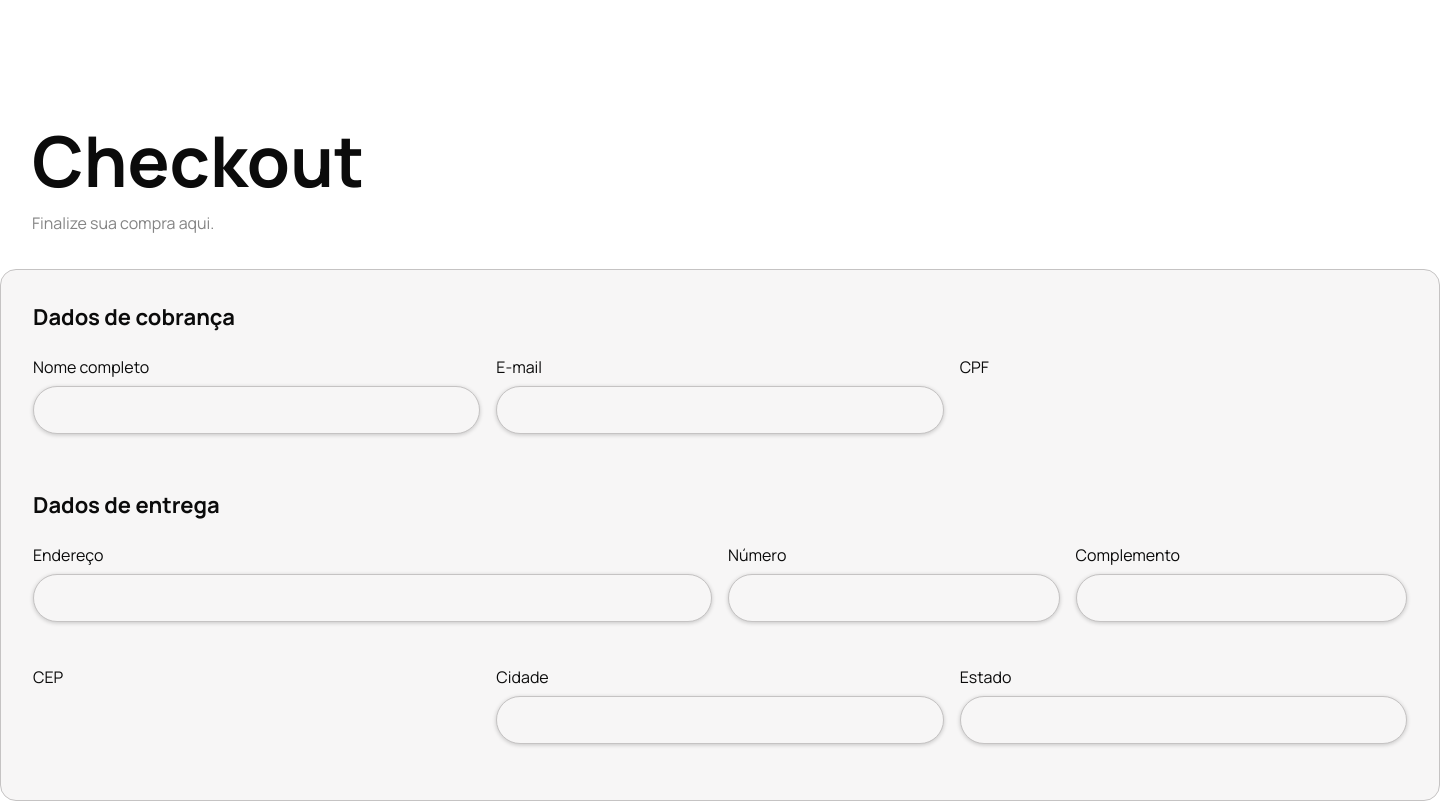
Scenario: Checkout › deve mostrar "Campo obrigatório" ao sair de um campo vazio
Note: Clica no campo
Click the field labelled "Nome completo" at {"x": 257, "y": 410}, box [33, 386, 480, 434]
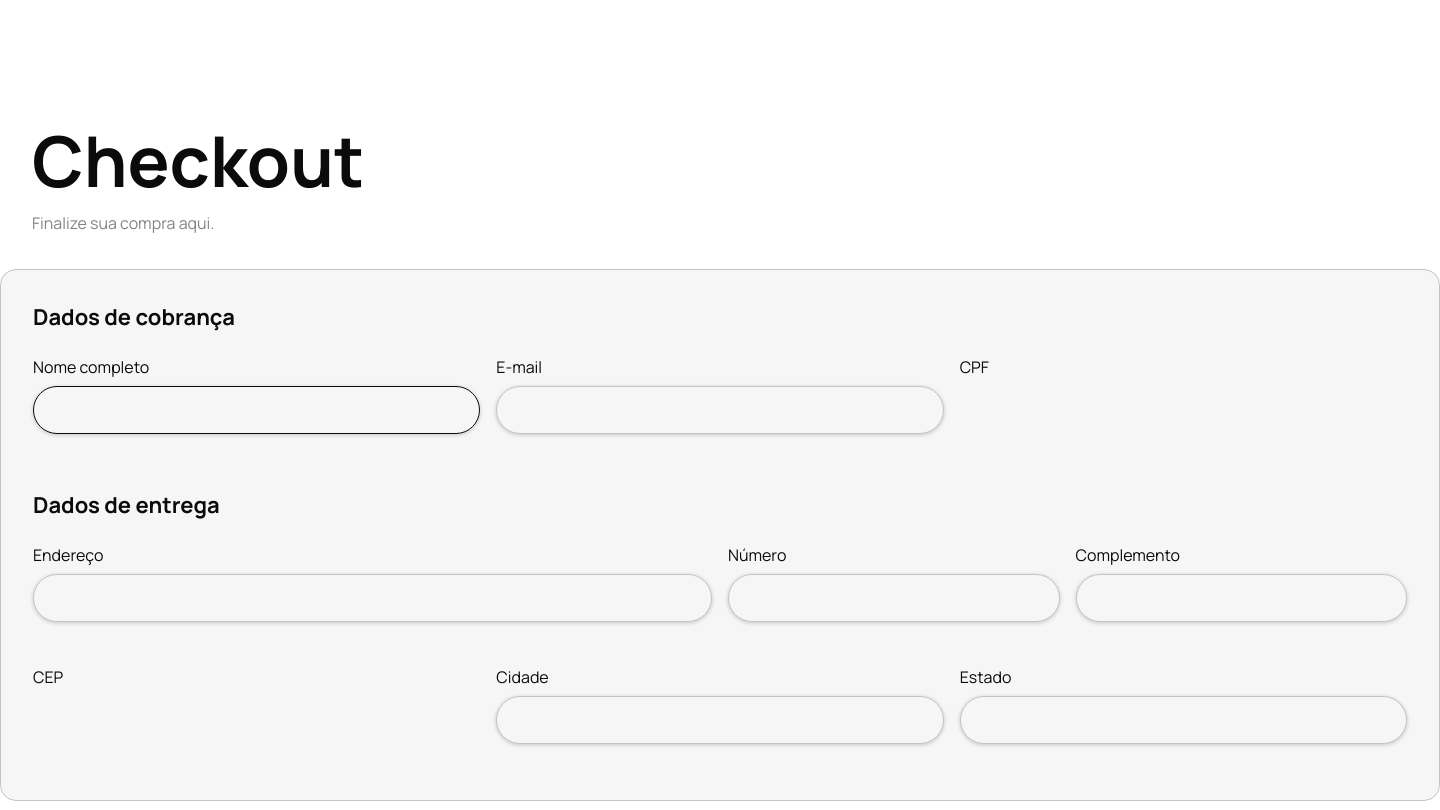
Note: Sai do campo sem preencher
Press Tab
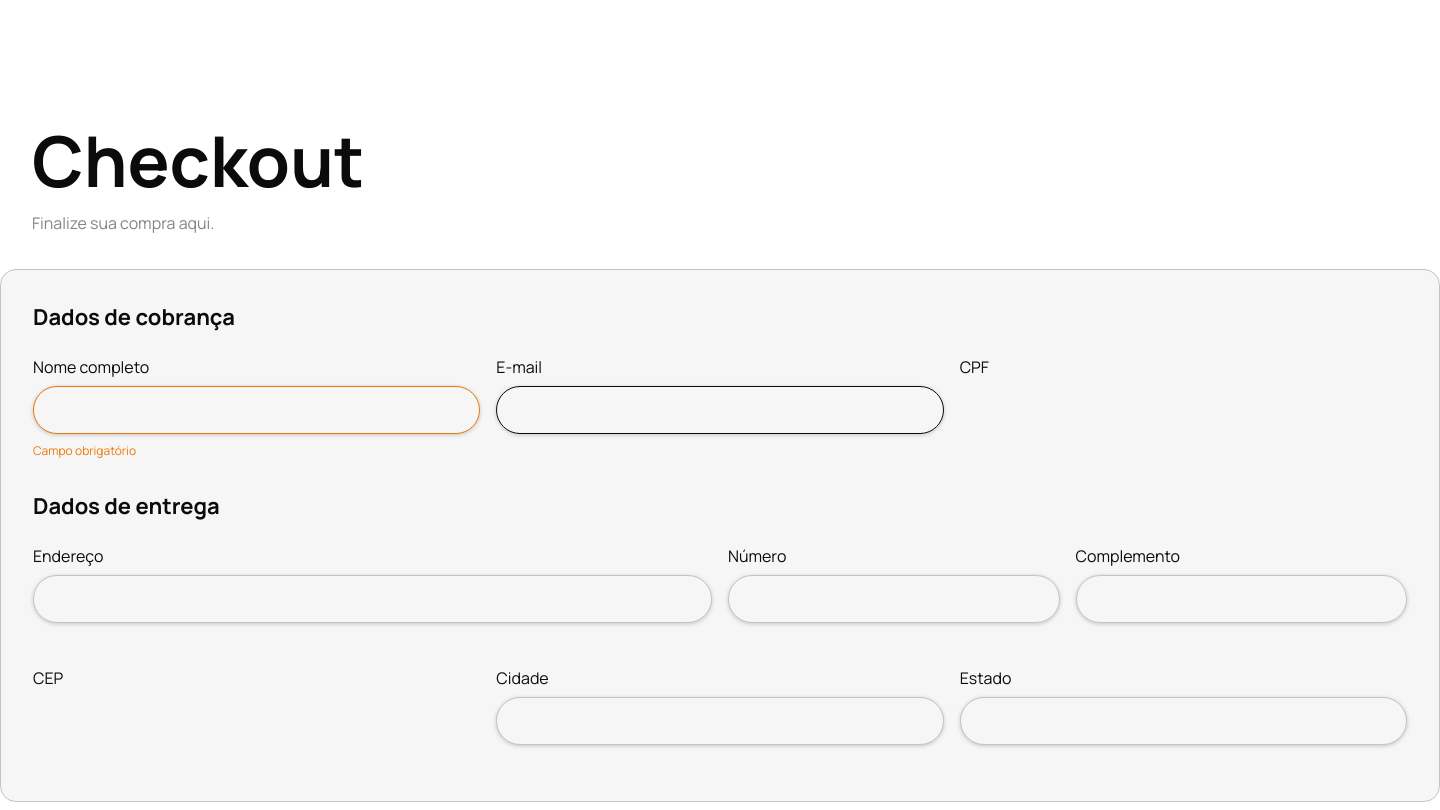
Expected: the text "Campo obrigatório" is shown, [33, 442, 136, 459]
